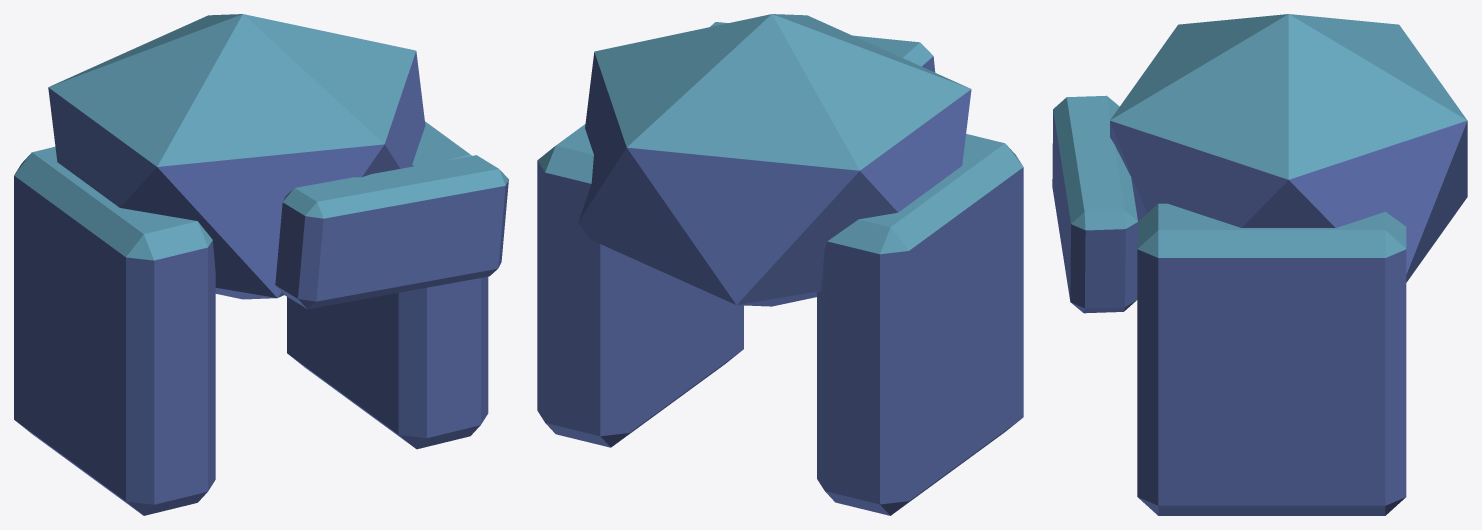
Rendered from npc_module_hair_7_v01.glb.
3 views of the same model, side by side, from view 1: azimuth 30°, elevation 25°; view 2: azimuth 150°, elevation 25°; view 3: azimuth 270°, elevation 25° (orthographic). The views are drawn at different scales.
Visible parts, largest first — view 1: GEO_npc_module_hair_7_v01; view 2: GEO_npc_module_hair_7_v01; view 3: GEO_npc_module_hair_7_v01.
Part boxes in pixels (box(x1,y1,x2,y2)): GEO_npc_module_hair_7_v01: box(14, 14, 508, 515); GEO_npc_module_hair_7_v01: box(537, 14, 1023, 515); GEO_npc_module_hair_7_v01: box(1052, 14, 1467, 515).
Bounding box in the file's own units: 1.01 × 1.11 × 0.9872.
